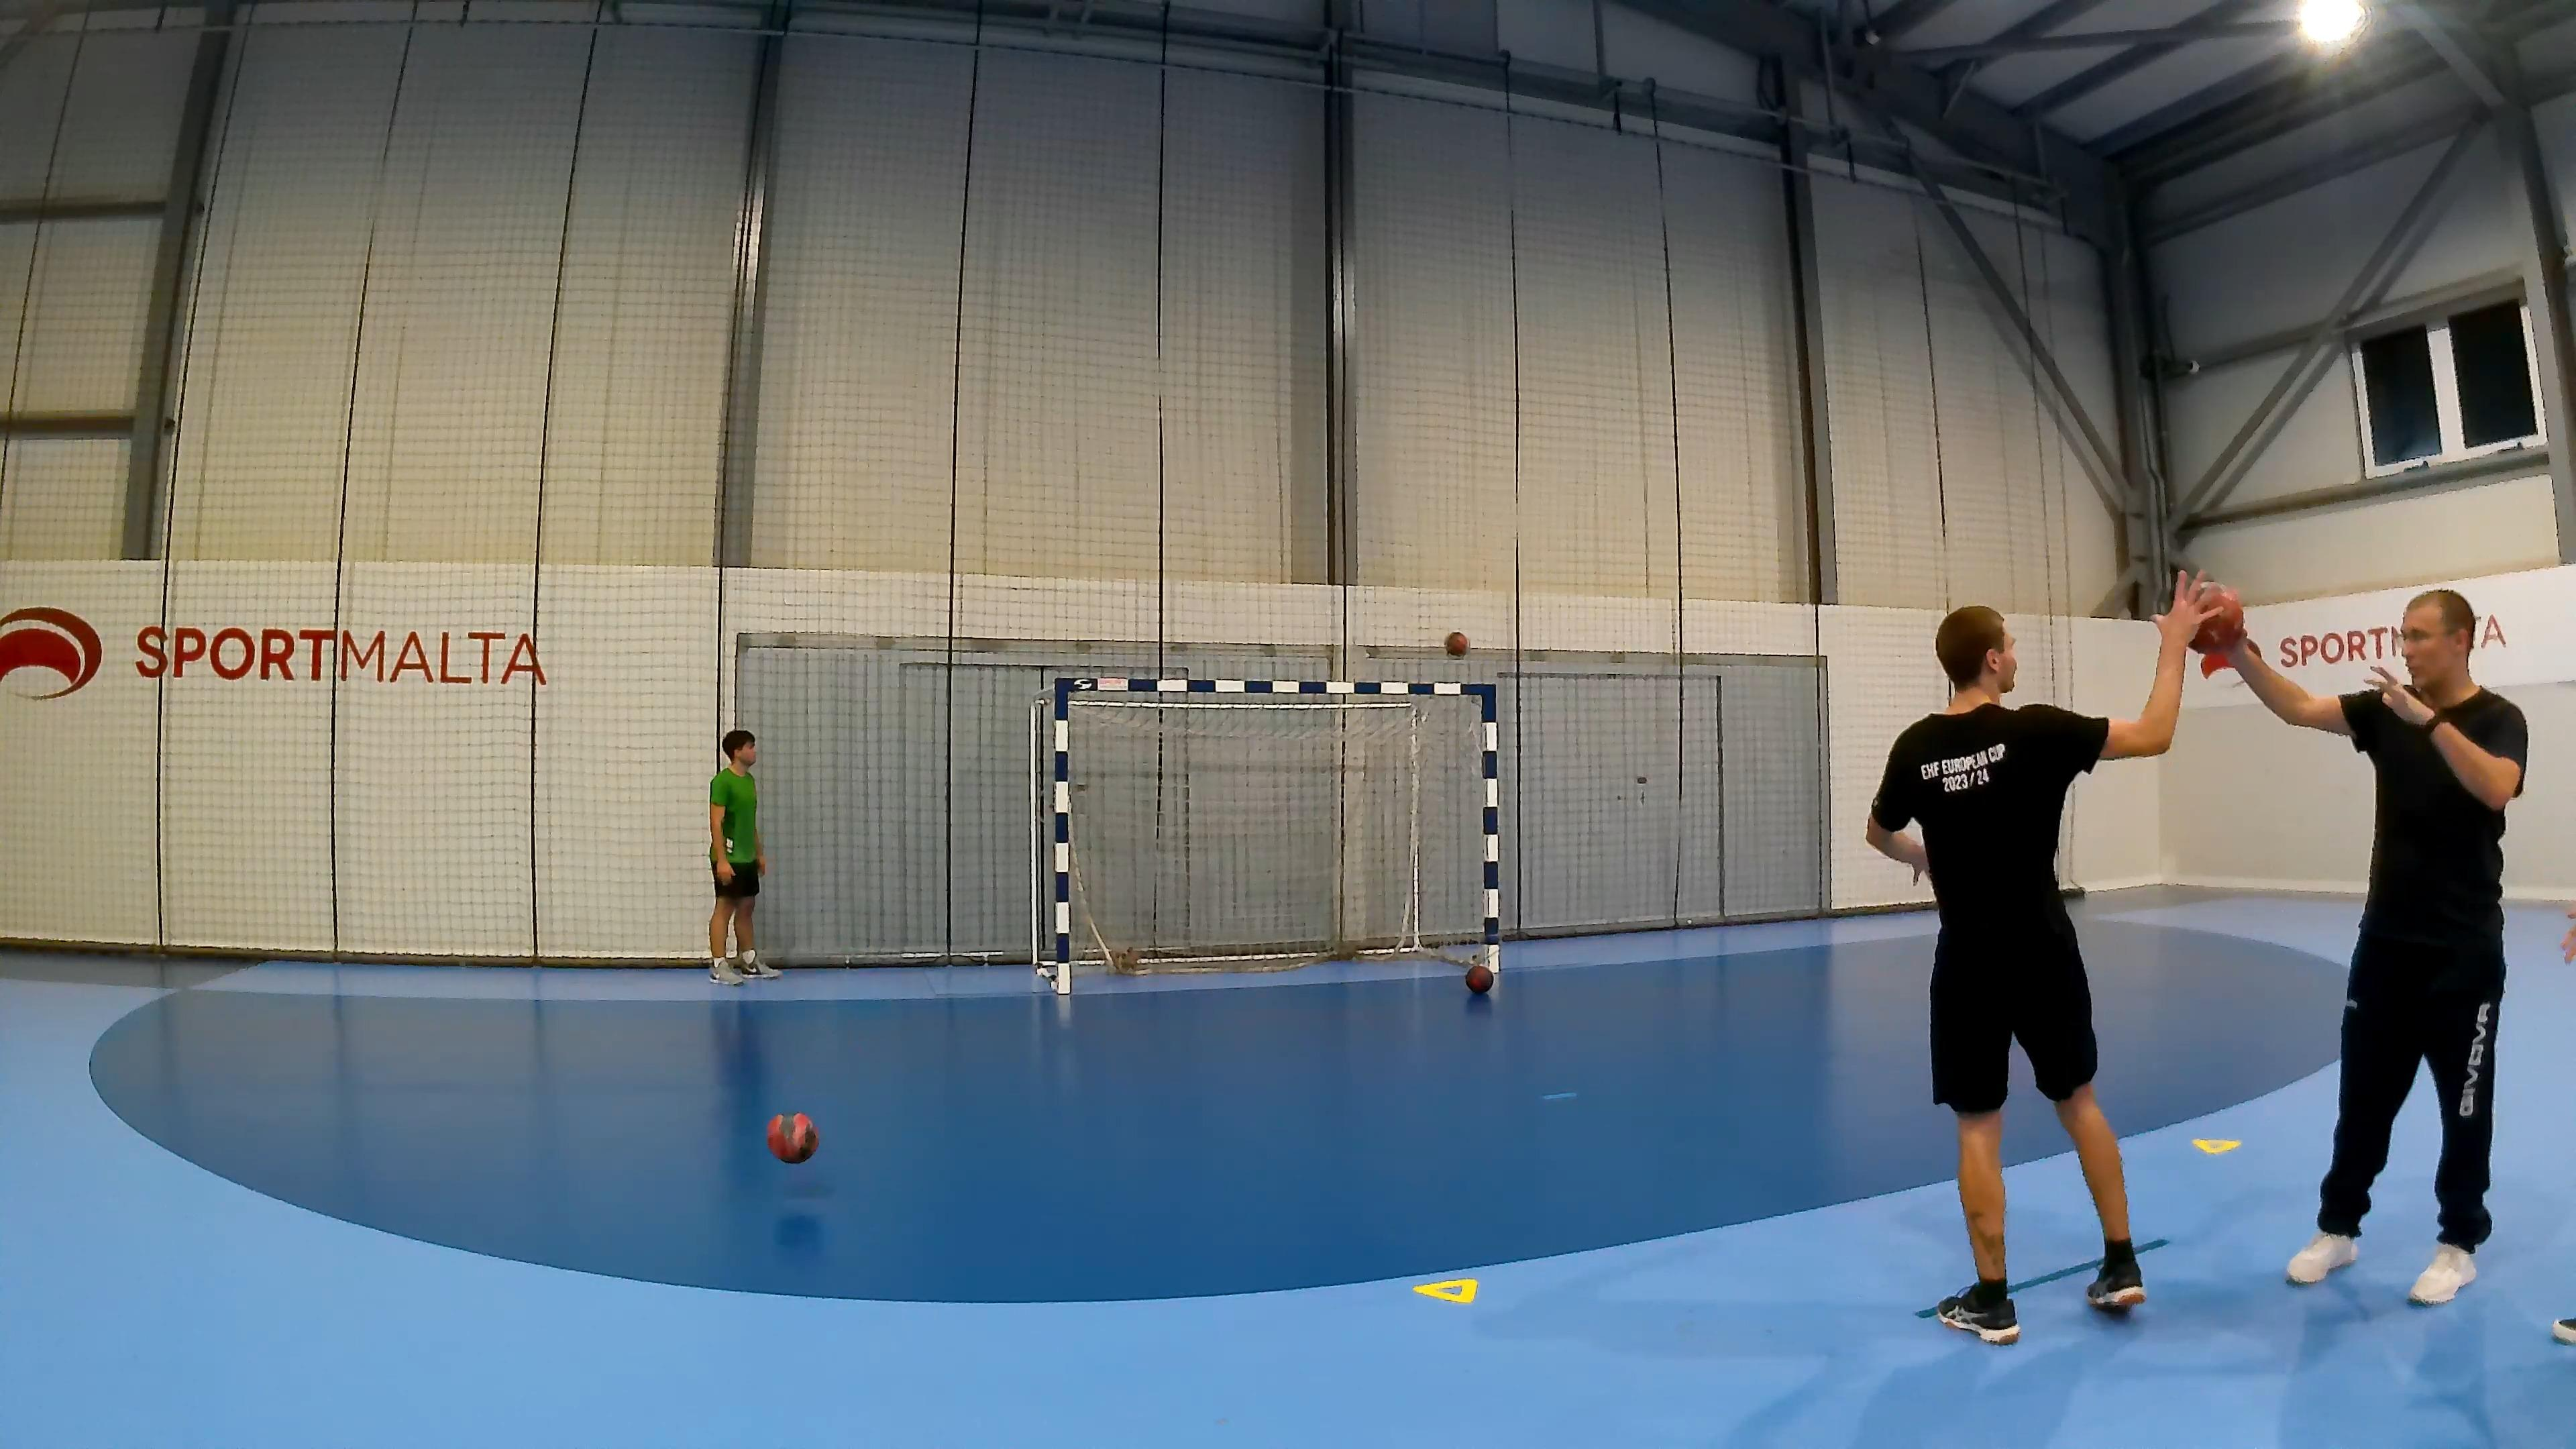handball: (2185, 582, 2245, 653), (766, 1111, 817, 1162), (1444, 628, 1474, 660), (1463, 962, 1493, 993)
